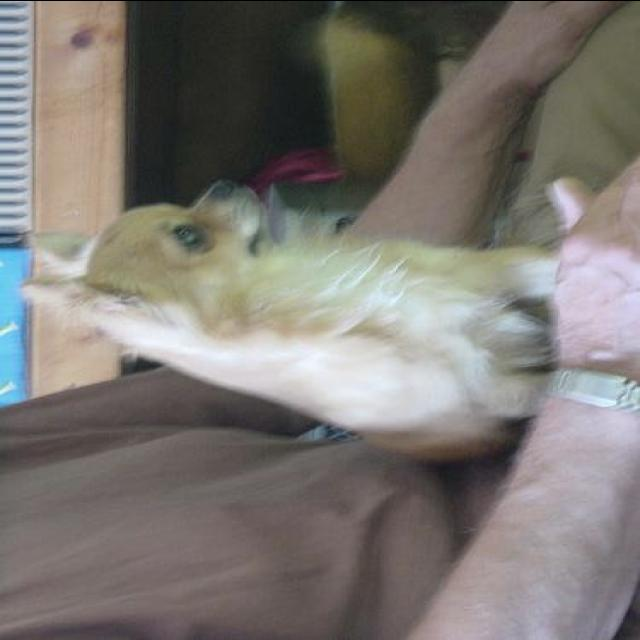chihuahua: (21, 178, 558, 460)
